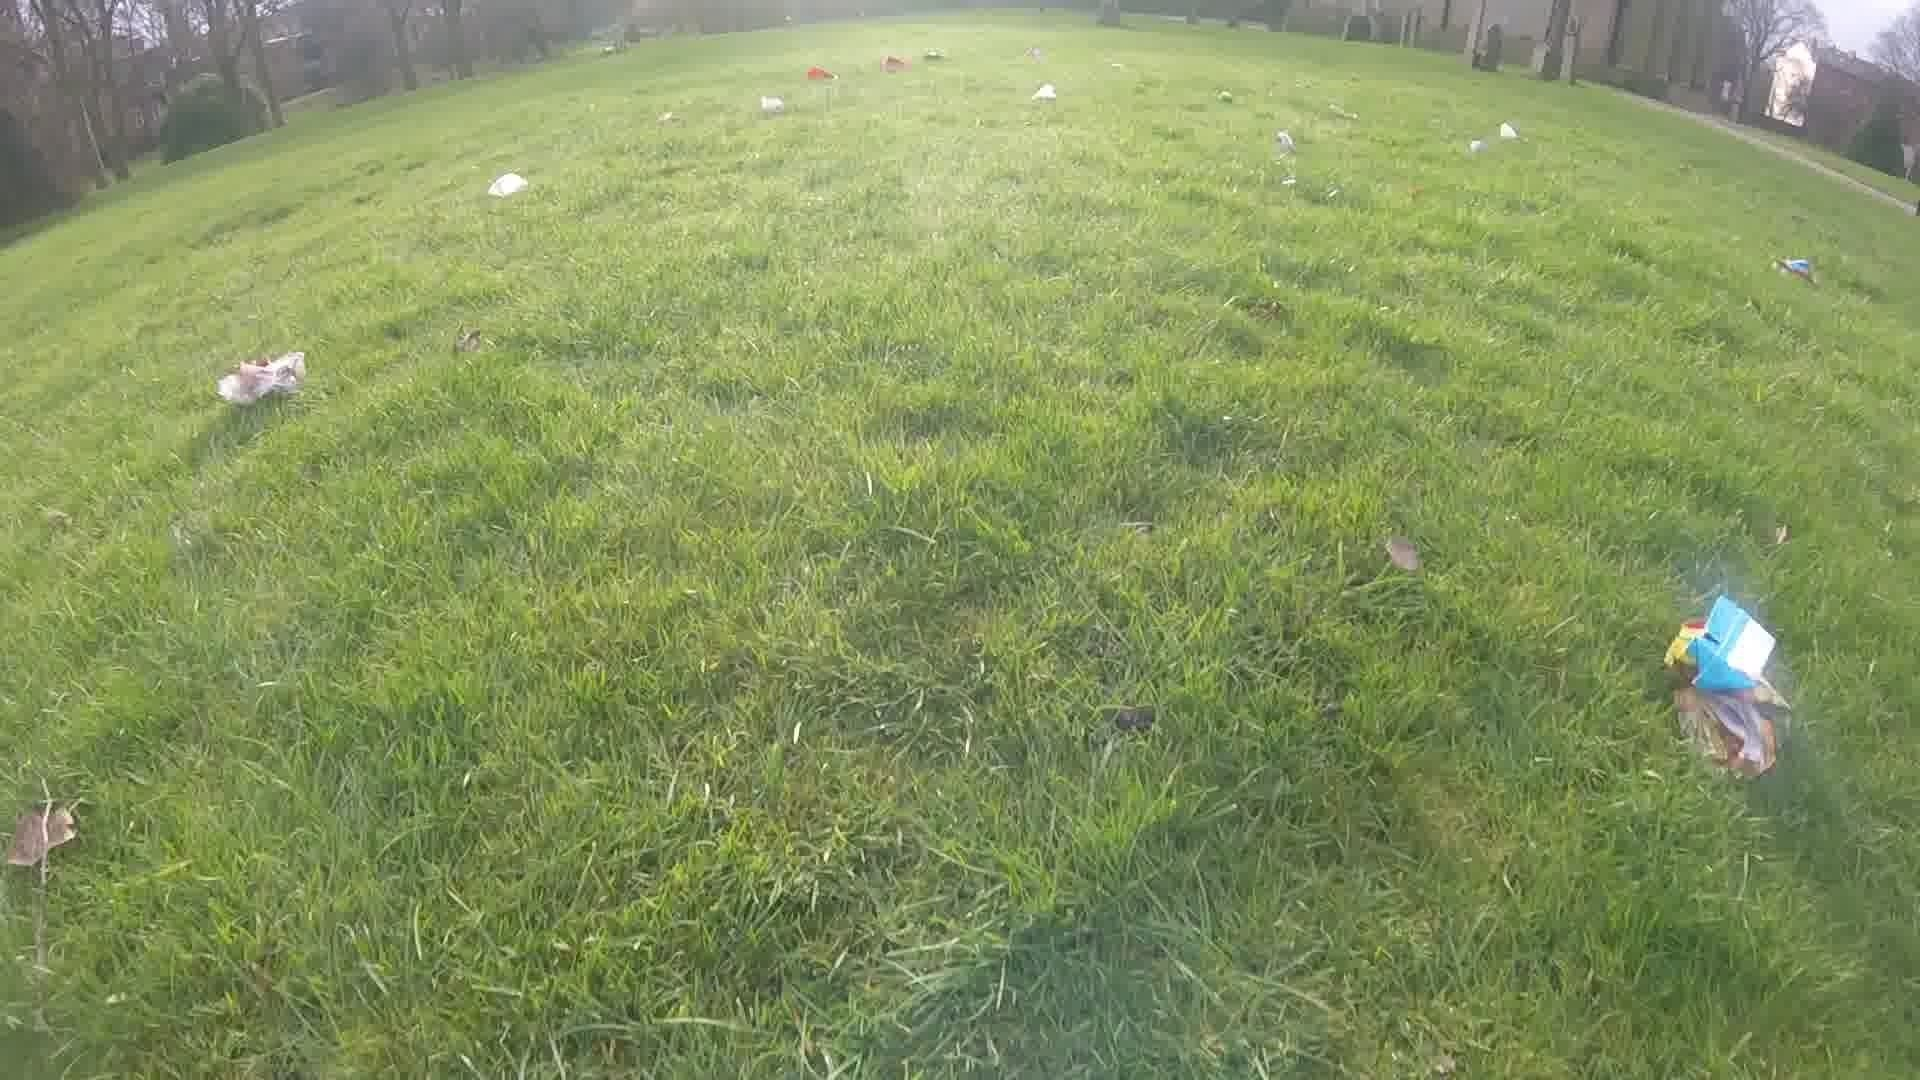litter: (1663, 600, 1784, 779), (216, 353, 302, 402), (480, 171, 531, 199), (1776, 255, 1818, 286), (804, 63, 837, 88), (1029, 84, 1058, 105), (1271, 131, 1299, 152), (876, 55, 906, 73), (760, 96, 785, 113), (1470, 138, 1491, 157), (1494, 127, 1524, 138), (915, 51, 945, 63), (1019, 44, 1040, 59), (1211, 92, 1238, 104)
